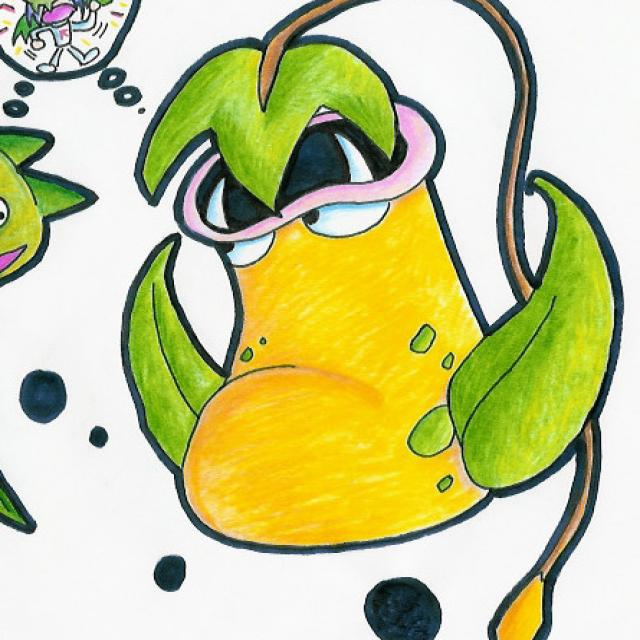Victreebel: (137, 36, 541, 547)
